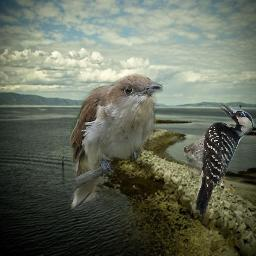Cuckoo: (67, 73, 163, 210)
Woodpecker: (184, 104, 254, 218)
